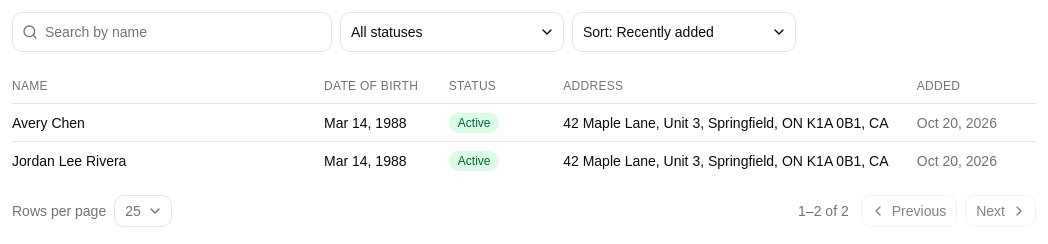
Test case: PatientDirectory › name search › searches on Enter, writing the search to the address and keeping focus in the search box
Type "  riv " into the search field named "Search patients by name".
click(172, 32); type("  riv ")  # box [12,12,332,52]
Then press Enter
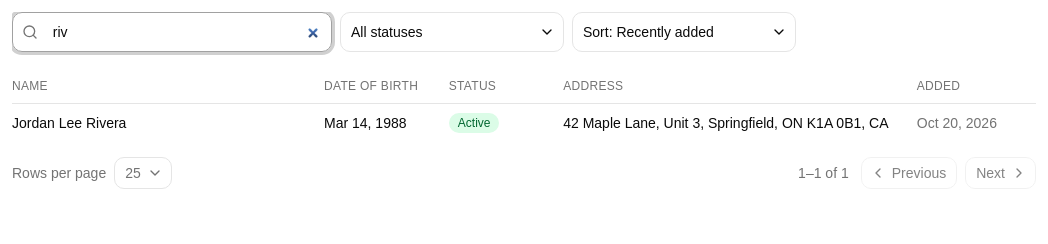
Check: the button "Search" is not shown
Check: the link "Avery Chen" is gone
